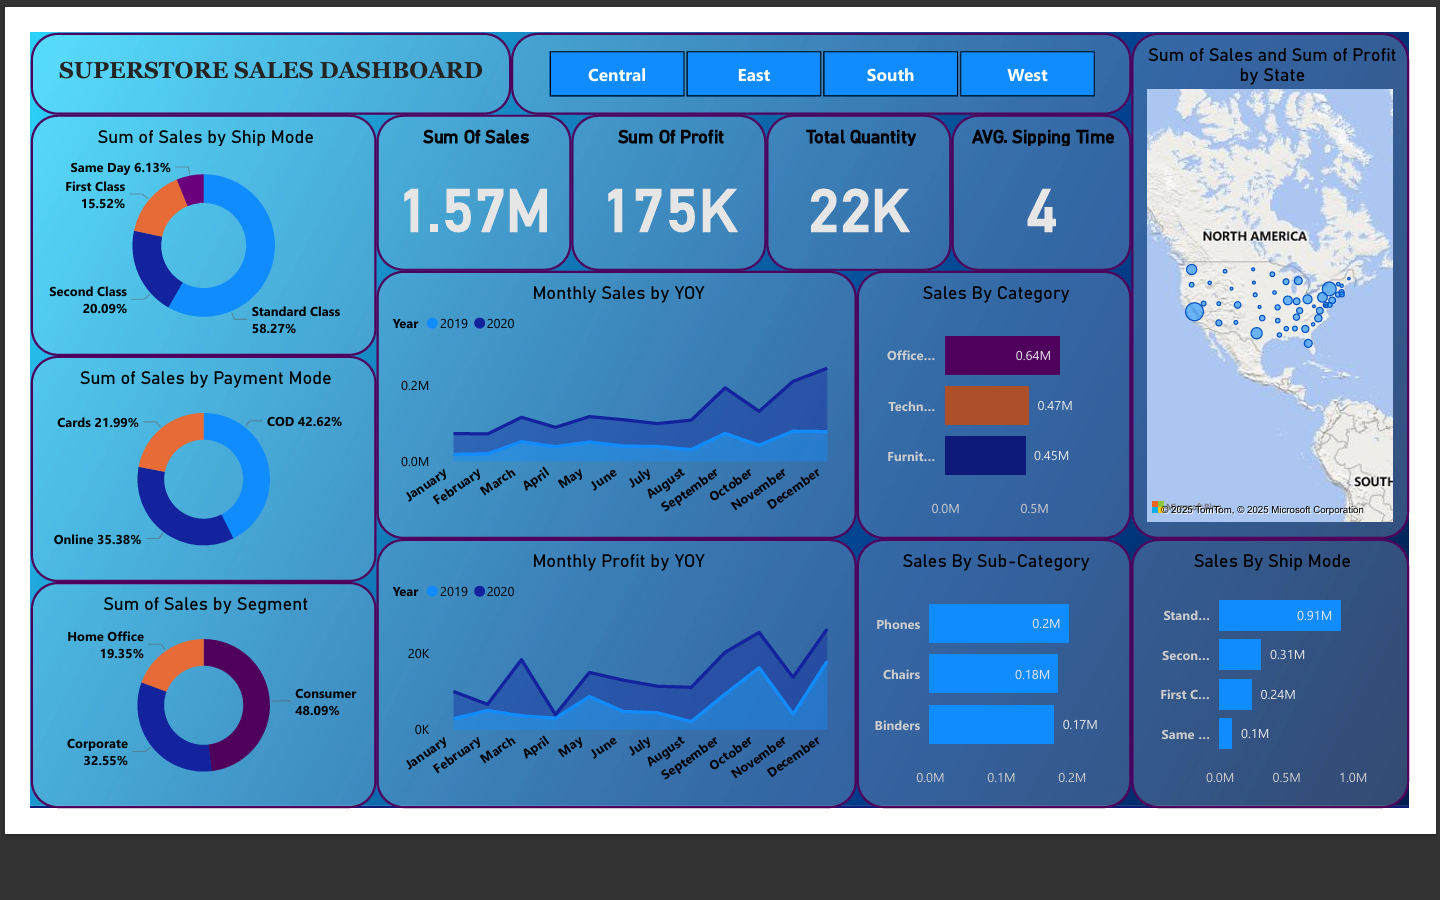

The page's visual inventory and layout, read from the dashboard file:
{"tool":"powerbi","page":{"name":"Page 1","canvas":[1280,720],"ordinal":0},"visuals":[{"type":"clusteredBarChart","title":" Sales By Category","fields":{"Y":["Sum(SuperStore_Sales_Dataset.Sales)"],"Category":["SuperStore_Sales_Dataset.Category"]},"box":[767.5,220.6,255,249.9],"z":0},{"type":"clusteredBarChart","title":"Sales By Sub-Category","fields":{"Y":["Sum(SuperStore_Sales_Dataset.Sales)"],"Category":["SuperStore_Sales_Dataset.Sub-Category"]},"box":[767.5,470.4,255,249.9],"z":1000},{"type":"clusteredBarChart","title":"Sales By Ship Mode","fields":{"Y":["Sum(SuperStore_Sales_Dataset.Sales)"],"Category":["SuperStore_Sales_Dataset.Ship Mode"]},"box":[1022.5,470.4,257.5,249.9],"z":2000},{"type":"stackedAreaChart","title":"Monthly Sales by YOY","fields":{"Category":["SuperStore_Sales_Dataset.Order Date.Variation.Date Hierarchy.Month","SuperStore_Sales_Dataset.Order Date.Variation.Date Hierarchy.Day"],"Y":["Sum(SuperStore_Sales_Dataset.Sales)"],"Series":["SuperStore_Sales_Dataset.Order Date.Variation.Date Hierarchy.Year"]},"box":[321.3,220.6,446.2,249.9],"z":3000},{"type":"stackedAreaChart","title":"Monthly Profit by YOY","fields":{"Category":["SuperStore_Sales_Dataset.Order Date.Variation.Date Hierarchy.Month","SuperStore_Sales_Dataset.Order Date.Variation.Date Hierarchy.Day"],"Series":["SuperStore_Sales_Dataset.Order Date.Variation.Date Hierarchy.Year"],"Y":["Sum(SuperStore_Sales_Dataset.Profit)"]},"box":[321.3,470.4,446.2,249.9],"z":4000},{"type":"map","fields":{"Category":["SuperStore_Sales_Dataset.State"],"Size":["Sum(SuperStore_Sales_Dataset.Sales)"]},"box":[1022.5,0,257.5,470.4],"z":5000},{"type":"donutChart","fields":{"Category":["SuperStore_Sales_Dataset.Segment"],"Y":["Sum(SuperStore_Sales_Dataset.Sales)"]},"box":[0,510,321.3,210.4],"z":6000},{"type":"donutChart","fields":{"Category":["SuperStore_Sales_Dataset.Payment Mode"],"Y":["Sum(SuperStore_Sales_Dataset.Sales)"]},"box":[0,299.6,321.3,210.4],"z":7000},{"type":"donutChart","fields":{"Category":["SuperStore_Sales_Dataset.Ship Mode"],"Y":["Sum(SuperStore_Sales_Dataset.Sales)"]},"box":[0,76.5,321.3,223.1],"z":8000},{"type":"textbox","box":[0,0,446.2,76.5],"z":9000},{"type":"slicer","fields":{"Values":["SuperStore_Sales_Dataset.Region"]},"box":[446.2,0,576.3,76.5],"z":10000},{"type":"card","title":"Sum Of Sales","fields":{"Values":["Sum(SuperStore_Sales_Dataset.Sales)"]},"box":[321.3,76.5,181,144.1],"z":11000},{"type":"card","title":"Sum Of Profit","fields":{"Values":["Sum(SuperStore_Sales_Dataset.Profit)"]},"box":[502.3,76.5,181,144.1],"z":12000},{"type":"card","title":"Total Quantity","fields":{"Values":["Sum(SuperStore_Sales_Dataset.Quantity)"]},"box":[683.3,76.5,172.1,144.1],"z":13000},{"type":"card","title":"AVG. Sipping Time","fields":{"Values":["Avg(SuperStore_Sales_Dataset.Avg Shipping date)"]},"box":[855.5,76.5,167,144.1],"z":13001}]}

Visuals, with their boxes in screenshot pixels (x1, y1, x2, y2):
" Sales By Category" clusteredBarChart: x1=848, y1=266, x2=1120, y2=533
"Sales By Sub-Category" clusteredBarChart: x1=848, y1=533, x2=1120, y2=801
"Sales By Ship Mode" clusteredBarChart: x1=1120, y1=533, x2=1396, y2=801
"Monthly Sales by YOY" stackedAreaChart: x1=370, y1=266, x2=848, y2=533
"Monthly Profit by YOY" stackedAreaChart: x1=370, y1=533, x2=848, y2=801
map - SuperStore_Sales_Dataset.State x Sum(SuperStore_Sales_Dataset.Sales): x1=1120, y1=30, x2=1396, y2=533
donutChart - SuperStore_Sales_Dataset.Segment x Sum(SuperStore_Sales_Dataset.Sales): x1=26, y1=576, x2=370, y2=801
donutChart - SuperStore_Sales_Dataset.Payment Mode x Sum(SuperStore_Sales_Dataset.Sales): x1=26, y1=351, x2=370, y2=576
donutChart - SuperStore_Sales_Dataset.Ship Mode x Sum(SuperStore_Sales_Dataset.Sales): x1=26, y1=112, x2=370, y2=351
textbox: x1=26, y1=30, x2=504, y2=112
slicer - SuperStore_Sales_Dataset.Region: x1=504, y1=30, x2=1120, y2=112
"Sum Of Sales" card: x1=370, y1=112, x2=564, y2=266
"Sum Of Profit" card: x1=564, y1=112, x2=757, y2=266
"Total Quantity" card: x1=757, y1=112, x2=942, y2=266
"AVG. Sipping Time" card: x1=942, y1=112, x2=1120, y2=266
